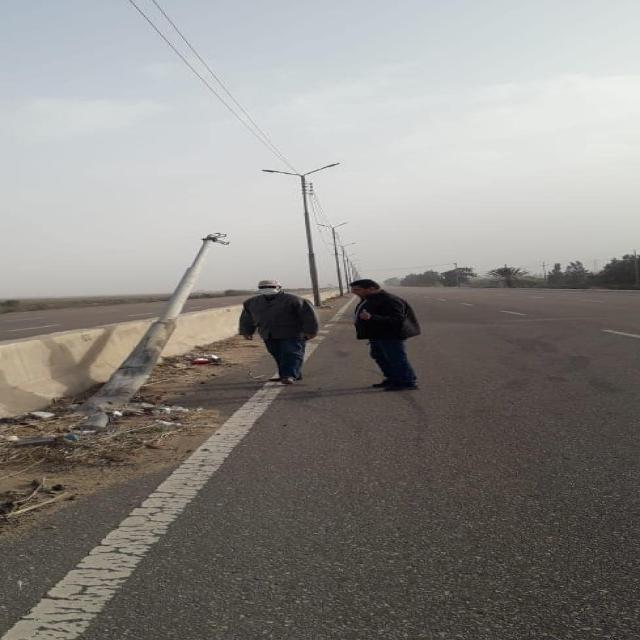Street Light: (259, 162, 339, 306), (318, 221, 349, 298), (326, 242, 356, 294)
